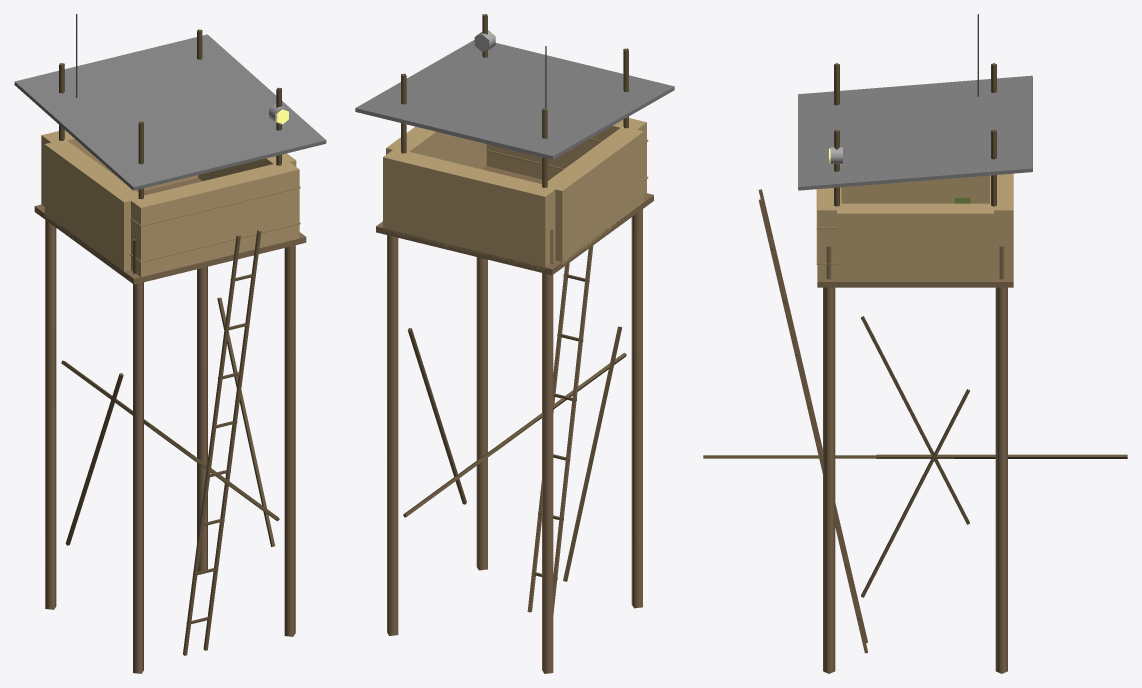
File: guard-tower.glb
3 renders of one model, left to right at view 1: azimuth 30°, elevation 25°; view 2: azimuth 150°, elevation 25°; view 3: azimuth 270°, elevation 25°, orthographic. The views are drawn at different scales.
Visible parts, largest first — view 1: Mesh_RoofMesh, Mesh_SandbagFront, Mesh_SandbagLeft, Mesh_LegFR, Mesh_LegBL, Mesh_LegFL, Mesh_LegBR, Mesh_LadderRailLMesh, Mesh_Platform, Mesh_LadderRailRMesh, Mesh_BraceRightMesh, Mesh_SandbagBack (+4 smaller); view 2: Mesh_RoofMesh, Mesh_SandbagBack, Mesh_SandbagLeft, Mesh_LegBL, Mesh_LegBR, Mesh_LegFL, Mesh_LegFR, Mesh_SandbagFront, Mesh_SandbagRight, Mesh_Platform, Mesh_LadderRailLMesh, Mesh_BraceLeftMesh (+4 smaller); view 3: Mesh_RoofMesh, Mesh_SandbagRight, Mesh_LegBR, Mesh_LegFR, Mesh_SandbagLeft, Mesh_SandbagBack, Mesh_LadderRailRMesh, Mesh_SandbagFront, Mesh_Platform, Mesh_BraceBackMesh, Mesh_LadderRailLMesh, Mesh_BraceRightMesh (+2 smaller).
Boxes of the visible parts, box(x1,y1,x2,y2) form: Mesh_RoofMesh: box(14, 34, 326, 190); Mesh_SandbagFront: box(129, 162, 299, 276); Mesh_SandbagLeft: box(44, 140, 144, 271); Mesh_LegFR: box(284, 245, 295, 636); Mesh_LegBL: box(45, 220, 56, 609); Mesh_LegFL: box(133, 239, 143, 673); Mesh_LegBR: box(197, 266, 207, 571); Mesh_LadderRailLMesh: box(183, 234, 240, 655); Mesh_Platform: box(34, 178, 306, 284); Mesh_LadderRailRMesh: box(203, 229, 261, 650); Mesh_BraceRightMesh: box(217, 297, 275, 546); Mesh_SandbagBack: box(41, 130, 198, 206); Mesh_RoofMesh: box(355, 40, 674, 159); Mesh_SandbagBack: box(383, 149, 556, 269); Mesh_SandbagLeft: box(547, 128, 643, 264); Mesh_LegBL: box(542, 228, 553, 673); Mesh_LegBR: box(387, 235, 398, 635); Mesh_LegFL: box(631, 209, 642, 608); Mesh_LegFR: box(476, 257, 487, 570); Mesh_SandbagFront: box(486, 118, 646, 194); Mesh_SandbagRight: box(386, 126, 486, 169); Mesh_Platform: box(376, 166, 653, 275); Mesh_LadderRailLMesh: box(553, 245, 593, 614); Mesh_BraceLeftMesh: box(563, 326, 622, 581); Mesh_RoofMesh: box(798, 75, 1032, 190); Mesh_SandbagRight: box(837, 203, 993, 281); Mesh_LegBR: box(995, 246, 1007, 673); Mesh_LegFR: box(823, 246, 835, 673); Mesh_SandbagLeft: box(841, 175, 989, 203); Mesh_SandbagBack: box(990, 173, 1013, 278); Mesh_LadderRailRMesh: box(758, 199, 867, 653); Mesh_SandbagFront: box(817, 187, 840, 278); Mesh_Platform: box(817, 278, 1013, 287); Mesh_BraceBackMesh: box(876, 454, 1127, 458); Mesh_LadderRailLMesh: box(758, 189, 867, 643); Mesh_BraceRightMesh: box(861, 389, 969, 597).
Bounding box in the file's own units: 2.8 × 8.48 × 5.4.
